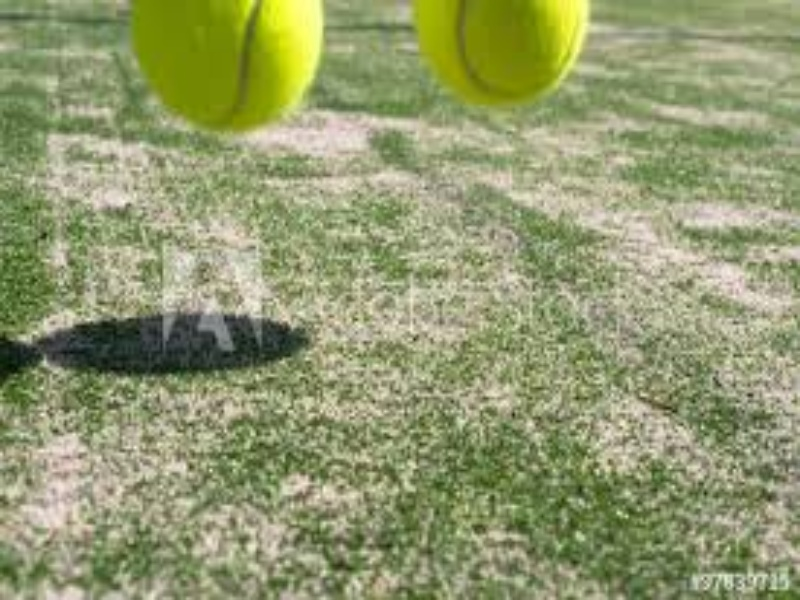tennis ball: (127, 4, 349, 142), (403, 4, 609, 122)
